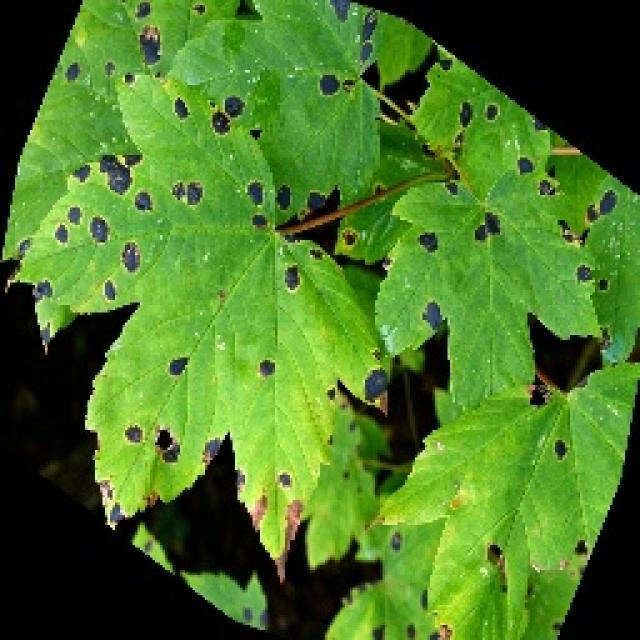Tar_Spot: (34, 0, 640, 599)
